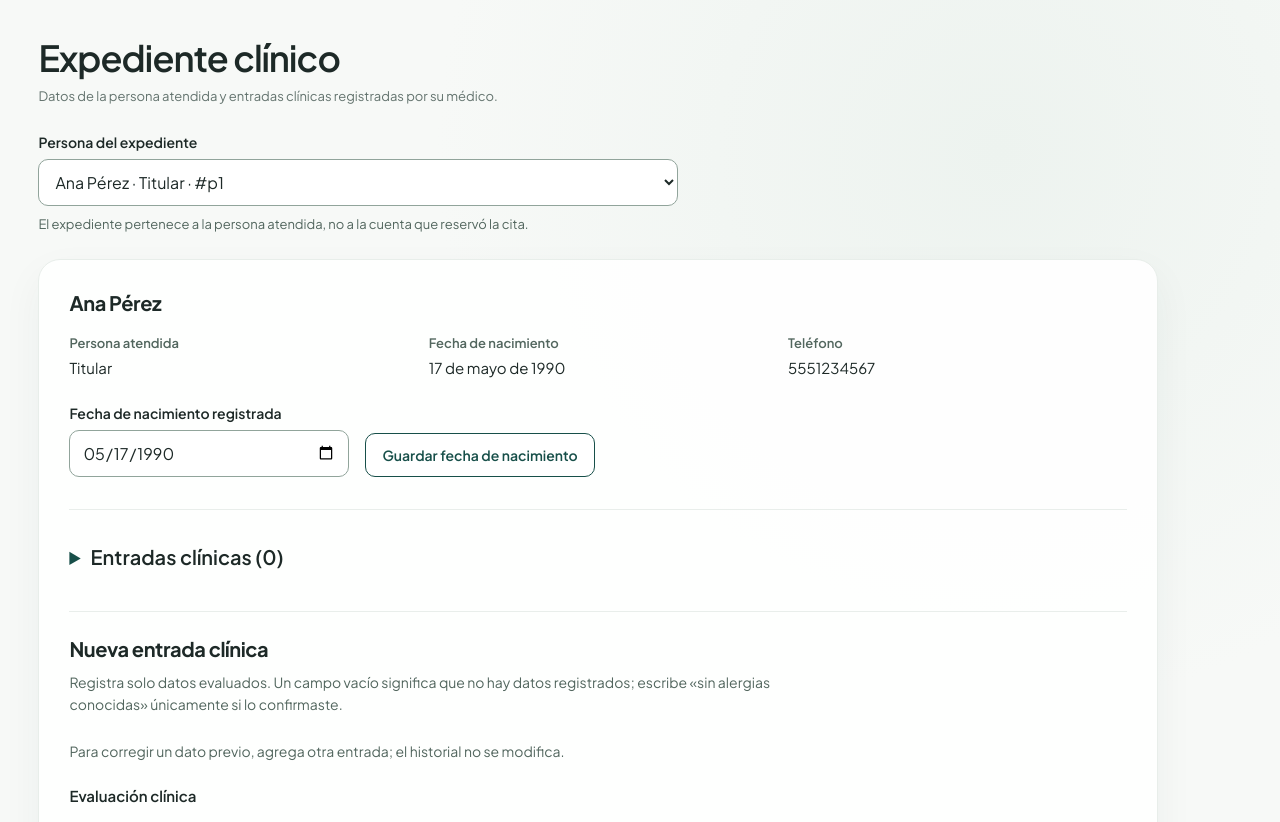
a late history page cannot reveal entries after selecting a denied beneficiary
Expected: the heading "Ana Pérez" is shown, [69, 290, 161, 315]
Click the heading "Entradas clínicas (0)": (187, 556) [91, 544, 284, 569]
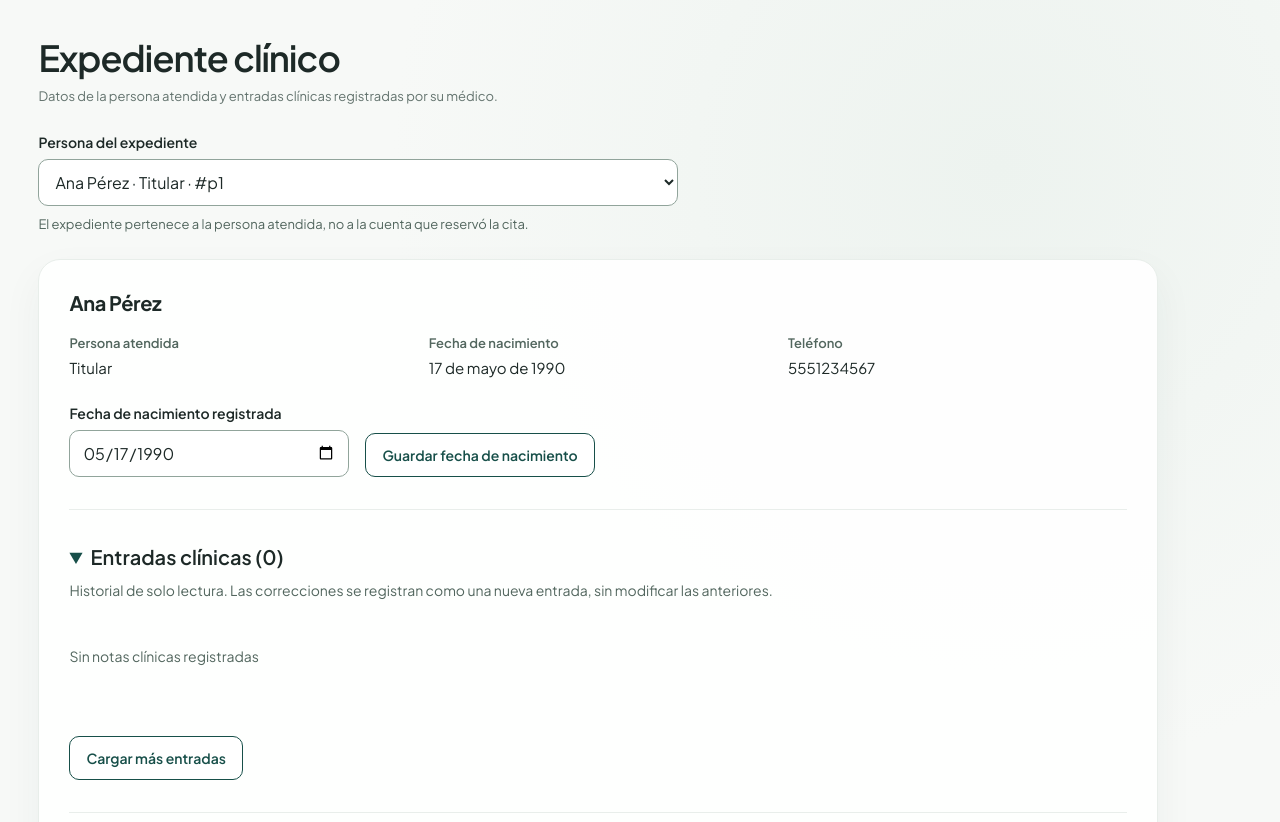
Click the button "Cargar más entradas": (156, 758) [69, 736, 243, 780]
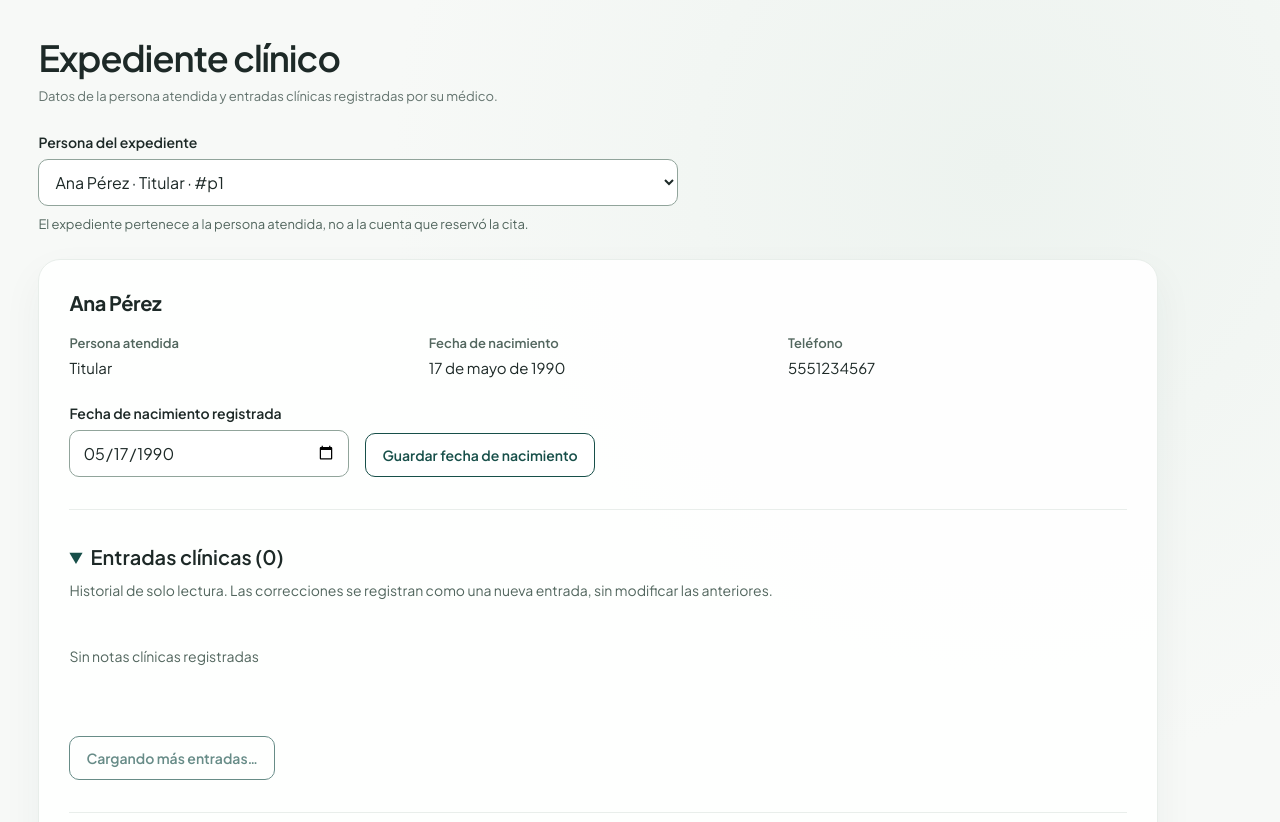
Select "Bea Pérez · Beneficiario · #p2" in the dropdown labelled "Persona del expediente": (358, 183) [38, 159, 678, 206]
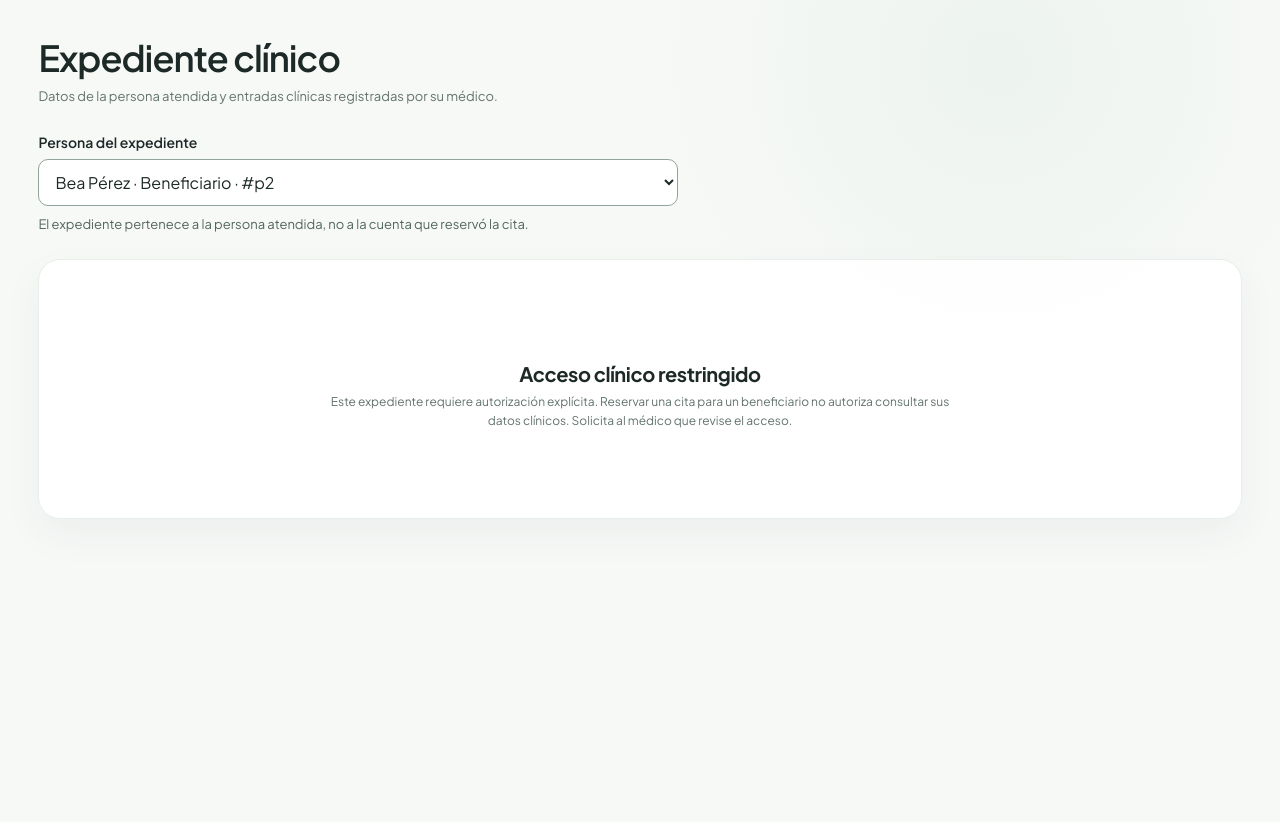
Now the text "autorización explícita" is shown, box [331, 394, 949, 428]
